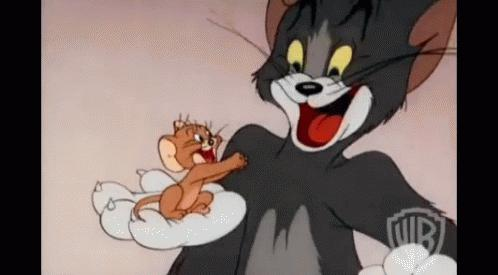jerry: (132, 114, 248, 222)
